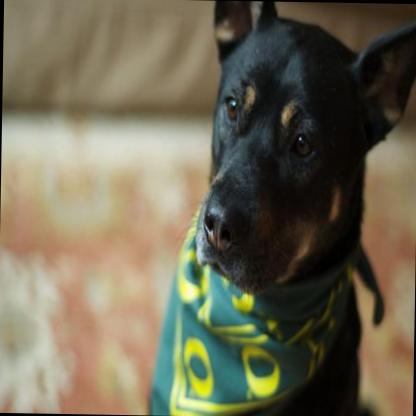kelpie: (144, 1, 416, 416)
